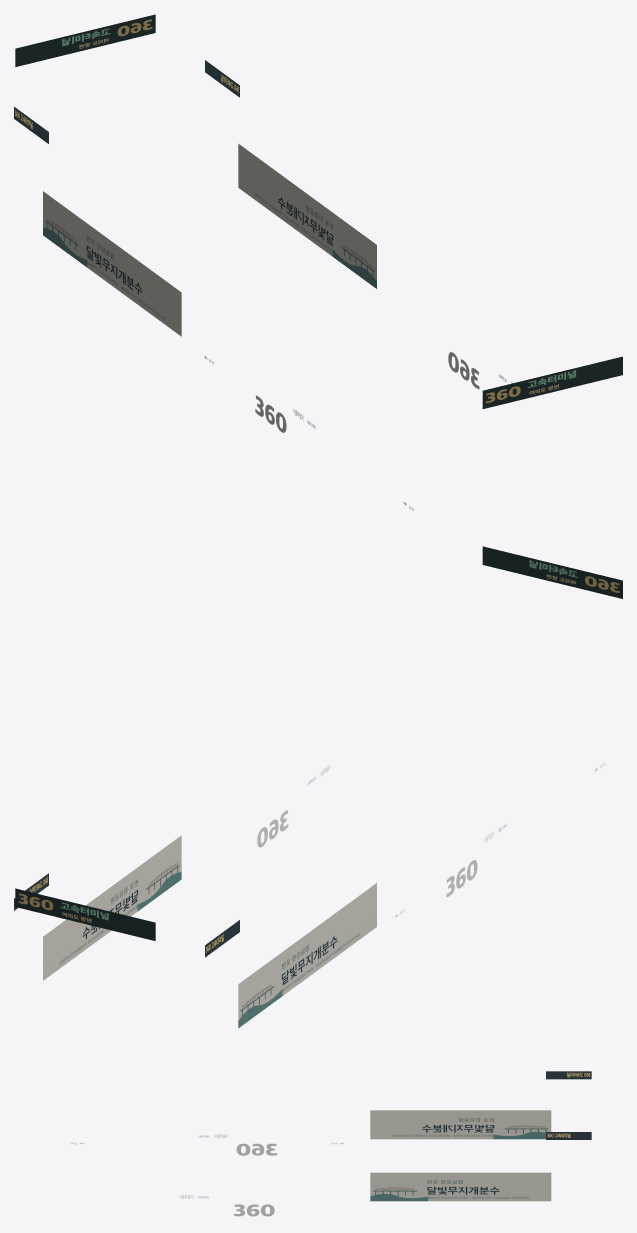
3 views of the same model, one above another, from view 1: azimuth 30°, elevation 25°; view 2: azimuth 150°, elevation 25°; view 3: azimuth 270°, elevation 25° (orthographic). The views are drawn at different scales.
Parts seen in each view (by area): view 1: Route360; view 2: Route360; view 3: Route360.
Part boxes in pixels (left/top/right/bottom): Route360: left=14, top=14, right=622, bottom=510; Route360: left=14, top=546, right=622, bottom=1028; Route360: left=71, top=1071, right=591, bottom=1216.
Size of the model in its own units: 2.57 by 2.11 by 10.67.
2 materials, 2 textured.
